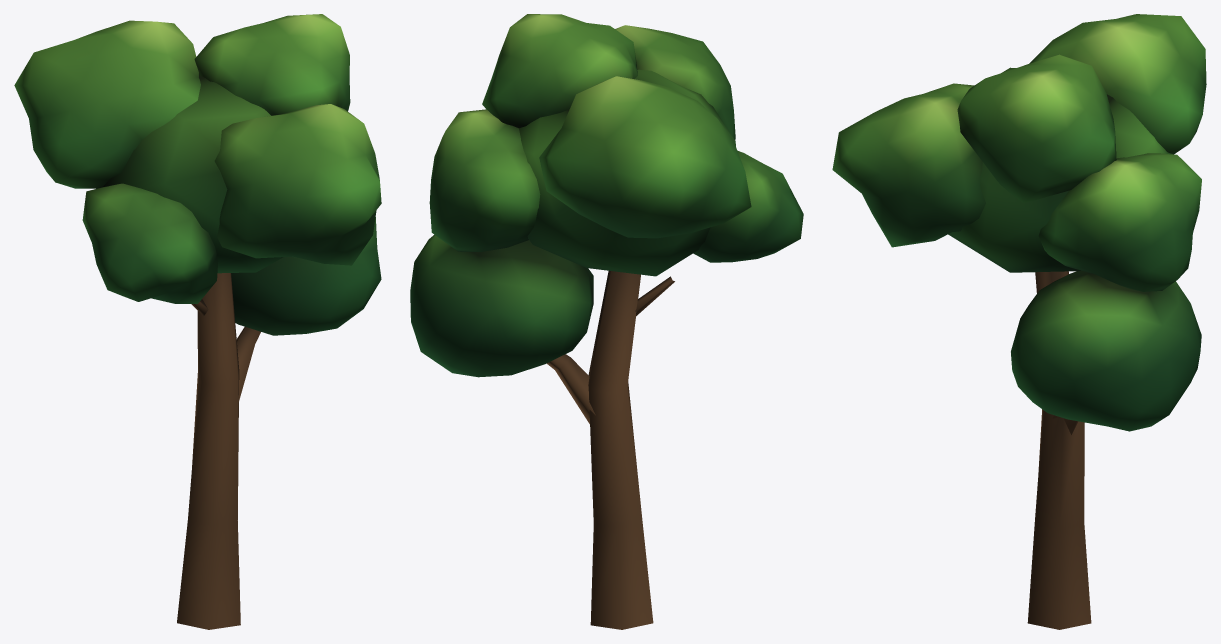
File: tree-sapling-v1.glb
3 renders of one model, left to right at view 1: azimuth 30°, elevation 25°; view 2: azimuth 150°, elevation 25°; view 3: azimuth 270°, elevation 25°, orthographic. The views are drawn at different scales.
Parts seen in each view (by area): view 1: 1_leaves, 0_trunk; view 2: 1_leaves, 0_trunk; view 3: 1_leaves, 0_trunk.
Part boxes in pixels (bbox=[...]): 1_leaves: bbox=[14, 14, 381, 335]; 0_trunk: bbox=[177, 273, 260, 629]; 1_leaves: bbox=[410, 14, 803, 377]; 0_trunk: bbox=[547, 270, 674, 629]; 1_leaves: bbox=[832, 14, 1206, 431]; 0_trunk: bbox=[1027, 271, 1091, 629].
Size of the model in its own units: 0.8066 by 1.39 by 0.8089.
